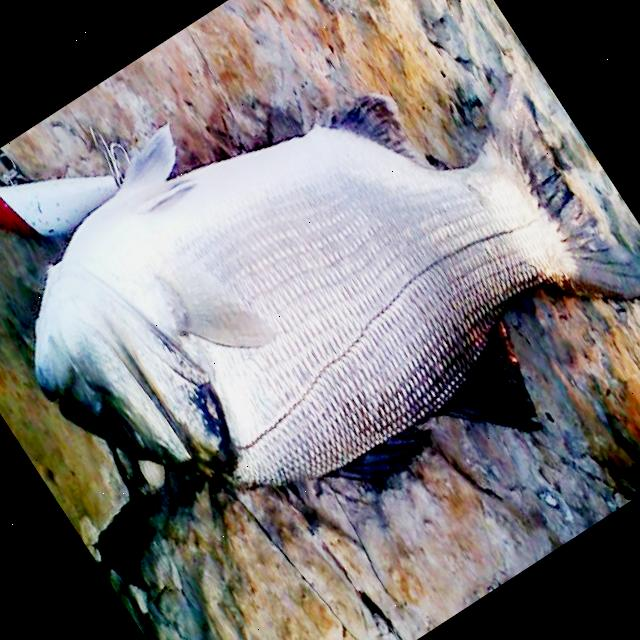Healthy Fish: (34, 84, 640, 485)
